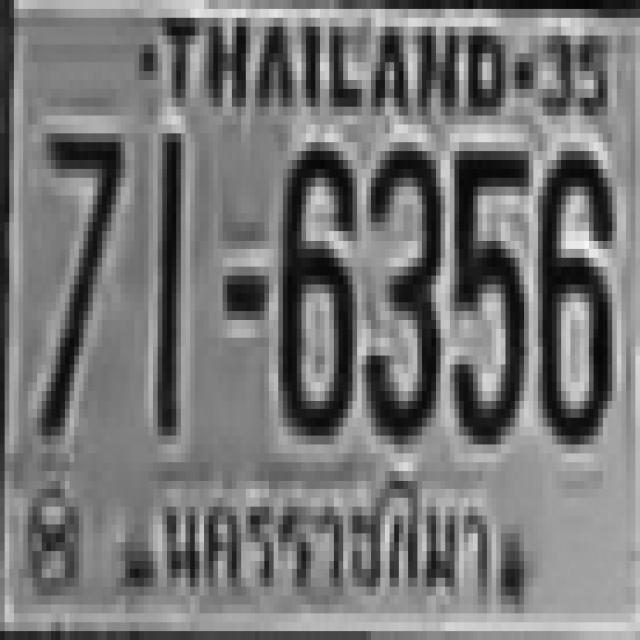1: (153, 129, 181, 431)
3: (366, 138, 440, 440)
5: (452, 148, 526, 442)
6: (536, 144, 610, 438), (280, 138, 354, 432)
7: (37, 129, 121, 431)
NakhonRatchasima: (152, 459, 497, 612)
